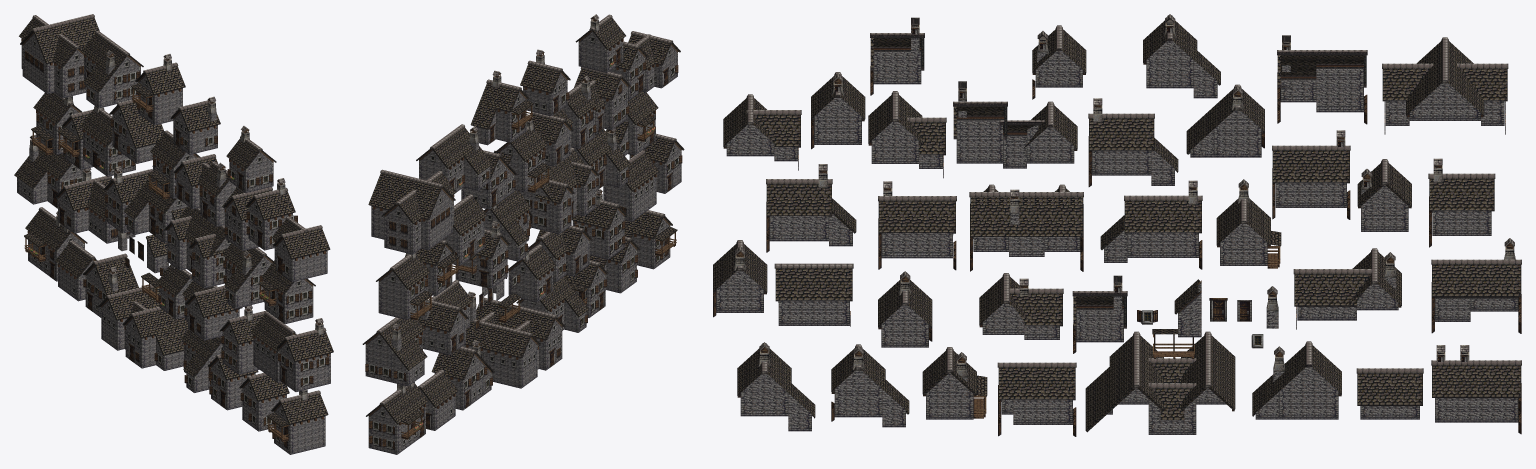
File: MbdMD_T_Mount_L_C_House_B.FBX
3 views of the same model, side by side, from view 1: azimuth 30°, elevation 25°; view 2: azimuth 150°, elevation 25°; view 3: azimuth 270°, elevation 25° (orthographic). The views are drawn at different scales.
Parts seen in each view (by area): view 1: MbdMD_Co_T_Mount_L_A_Factory, MbdMD_T_Mount_L_B_Ivon, MbdMD_T_Mount_L_B_Guratu, MbdMD_T_Mount_M_A_House_A (×2), MbdMD_T_Mount_M_A_Pub, MbdMD_T_Mount_L_C_Build_04, MbdMD_T_Mount_L_C_WeaponShop, MbdMD_T_Mount_M_A_GeneralShop, MbdMD_Co_T_Mount_L_A_Inn, MbdMD_T_Mount_L_C_House_B, MbdMD_Co_T_Mount_L_A_Pub, MbdMD_T_Mount_M_A_Inn (+23 smaller); view 2: MbdMD_Co_T_Mount_L_A_Factory, MbdMD_T_Mount_L_B_Ivon, MbdMD_T_Mount_M_A_House_A (×2), MbdMD_T_Mount_L_B_Guratu, MbdMD_Co_T_Mount_L_A_Pub, MbdMD_T_Mount_M_A_Pub, MbdMD_Co_T_Mount_L_A_Build_01, MbdMD_T_Mount_M_A_GeneralShop, MbdMD_T_Mount_M_A_Inn, MbdMD_T_Mount_L_B_Build_03, MbdMD_Co_T_Mount_L_A_Inn, MbdMD_Co_T_Mount_L_A_Build_02 (+22 smaller); view 3: MbdMD_Co_T_Mount_L_A_Factory, MbdMD_T_Mount_L_B_Ivon, MbdMD_T_Mount_L_B_Guratu, MbdMD_T_Mount_M_A_GeneralShop, MbdMD_T_Mount_M_A_House_A (×2), MbdMD_T_Mount_L_B_Build_01, MbdMD_Co_T_Mount_L_A_Build_01, MbdMD_Co_T_Mount_L_A_Inn, MbdMD_T_Mount_M_A_Pub, MbdMD_Co_T_Mount_L_A_Pub, MbdMD_T_Mount_L_C_Build_01, MbdMD_T_Mount_L_C_Build_06 (+22 smaller).
Boxes of the visible parts, box(x1,y1,x2,y2) form: MbdMD_Co_T_Mount_L_A_Factory: box(98, 285, 188, 370); MbdMD_T_Mount_L_B_Ivon: box(19, 14, 99, 98); MbdMD_T_Mount_L_B_Guratu: box(164, 206, 230, 288); MbdMD_T_Mount_M_A_House_A (×2): box(157, 126, 276, 319); MbdMD_T_Mount_M_A_Pub: box(81, 30, 143, 108); MbdMD_T_Mount_L_C_Build_04: box(266, 389, 328, 454); MbdMD_T_Mount_L_C_WeaponShop: box(276, 318, 333, 391); MbdMD_T_Mount_M_A_GeneralShop: box(173, 154, 236, 226); MbdMD_Co_T_Mount_L_A_Inn: box(55, 168, 135, 243); MbdMD_T_Mount_L_C_House_B: box(272, 216, 330, 282); MbdMD_Co_T_Mount_L_A_Pub: box(14, 134, 90, 208); MbdMD_T_Mount_M_A_Inn: box(131, 54, 185, 125); MbdMD_Co_T_Mount_L_A_Factory: box(462, 297, 564, 388); MbdMD_T_Mount_L_B_Ivon: box(368, 169, 456, 254); MbdMD_T_Mount_M_A_House_A (×2): box(508, 14, 625, 302); MbdMD_T_Mount_L_B_Guratu: box(519, 147, 598, 234); MbdMD_Co_T_Mount_L_A_Pub: box(362, 317, 427, 386); MbdMD_T_Mount_M_A_Pub: box(416, 124, 492, 191); MbdMD_Co_T_Mount_L_A_Build_01: box(366, 382, 428, 454); MbdMD_T_Mount_M_A_GeneralShop: box(532, 75, 597, 166); MbdMD_T_Mount_M_A_Inn: box(470, 70, 533, 145); MbdMD_T_Mount_L_B_Build_03: box(376, 252, 432, 320); MbdMD_Co_T_Mount_L_A_Inn: box(418, 280, 472, 355); MbdMD_Co_T_Mount_L_A_Build_02: box(431, 340, 494, 410); MbdMD_Co_T_Mount_L_A_Factory: box(1085, 331, 1235, 434); MbdMD_T_Mount_L_B_Ivon: box(1382, 37, 1508, 134); MbdMD_T_Mount_L_B_Guratu: box(969, 184, 1083, 271); MbdMD_T_Mount_M_A_GeneralShop: box(953, 81, 1077, 168); MbdMD_T_Mount_M_A_House_A (×2): box(870, 17, 1127, 353); MbdMD_T_Mount_L_B_Build_01: box(1100, 180, 1202, 269); MbdMD_Co_T_Mount_L_A_Build_01: box(1431, 345, 1521, 434); MbdMD_Co_T_Mount_L_A_Inn: box(1293, 248, 1401, 329); MbdMD_T_Mount_M_A_Pub: box(1277, 35, 1367, 124); MbdMD_Co_T_Mount_L_A_Pub: box(1431, 238, 1521, 333); MbdMD_T_Mount_L_C_Build_01: box(1088, 98, 1178, 186); MbdMD_T_Mount_L_C_Build_06: box(766, 164, 856, 252).
Bounding box in the file's own units: 1063 × 3908 × 6804.
